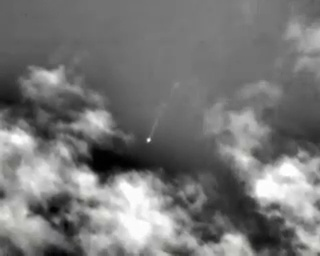AIRPLANE: (144, 134, 154, 146)
